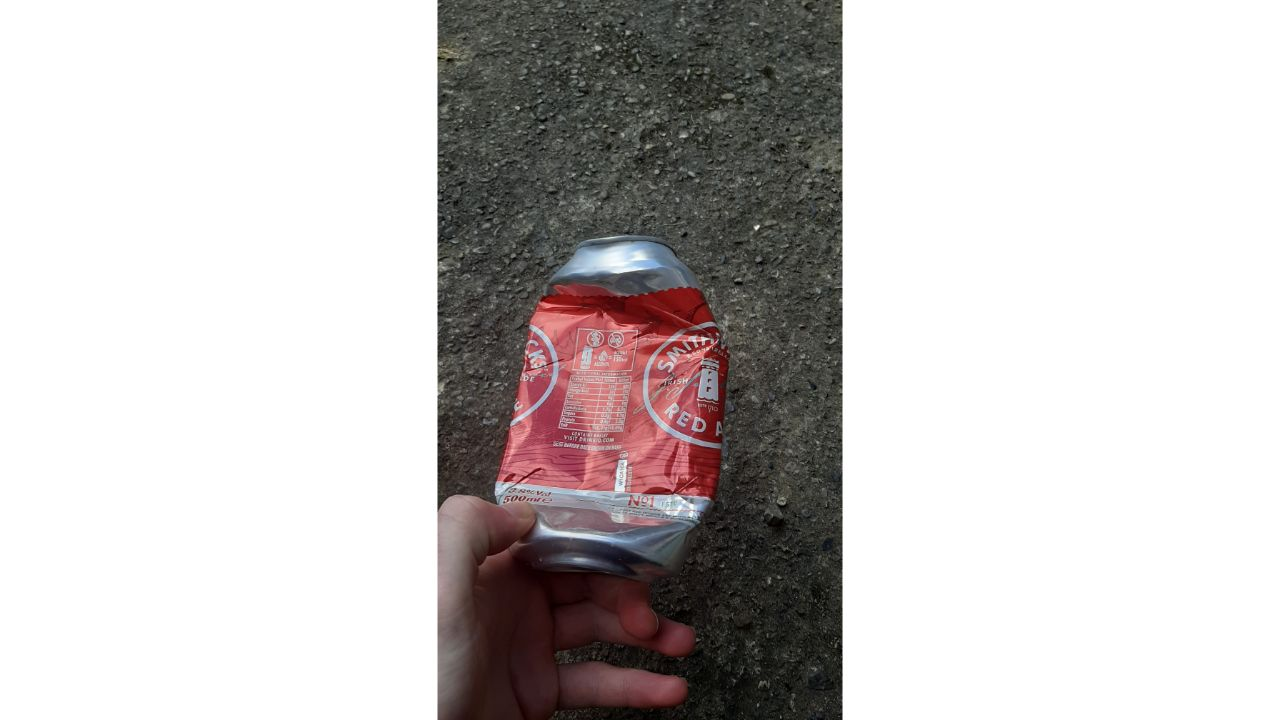Can: (484, 226, 737, 590)
